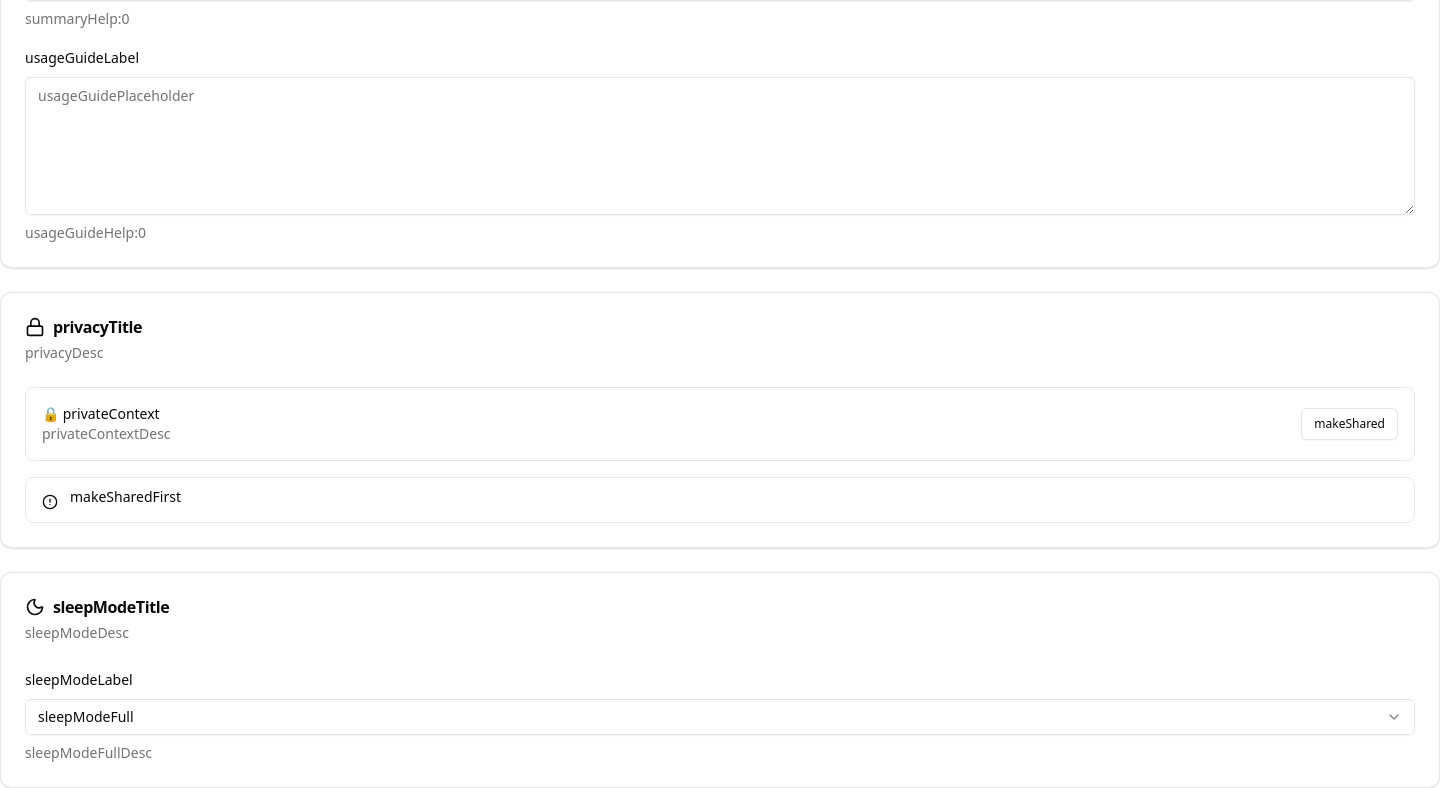
Scenario: SettingsTabPanel — privacy transition dialog › does NOT open the dialog when toggling private → shared (one-way protection)
(page scrolled)
Click the button "makeShared" at (1350, 424), box [1301, 408, 1398, 440]
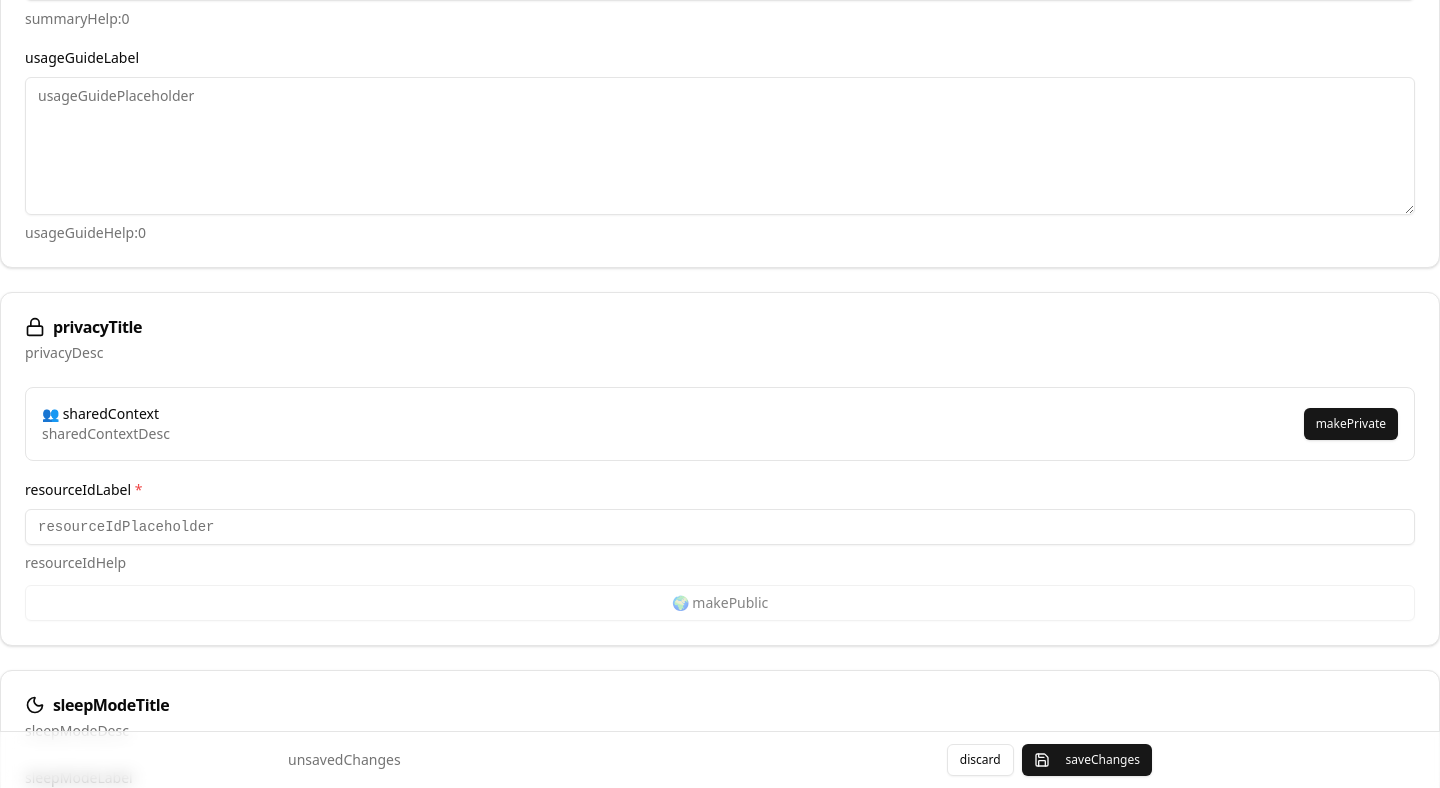
Check: the button "makePrivate" is shown, box [1304, 408, 1398, 440]
